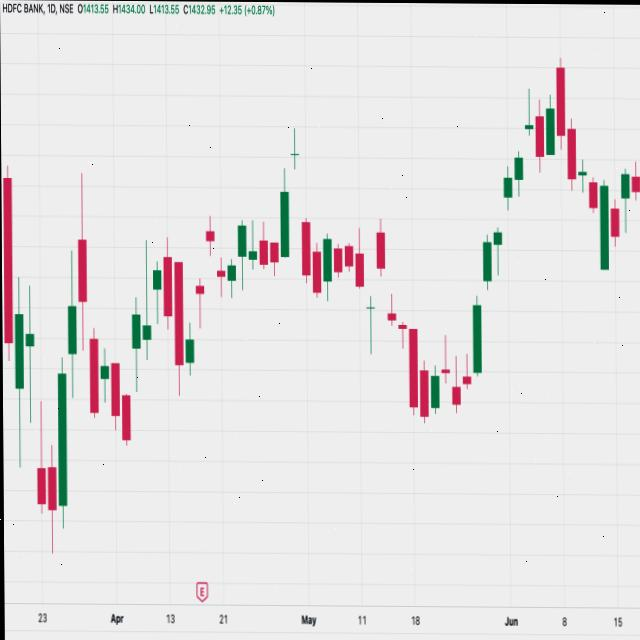Gap Down: (289, 124, 312, 300), (376, 224, 401, 340)
Gap Up: (468, 233, 495, 399), (362, 215, 387, 368), (490, 162, 515, 278), (193, 207, 214, 342)
